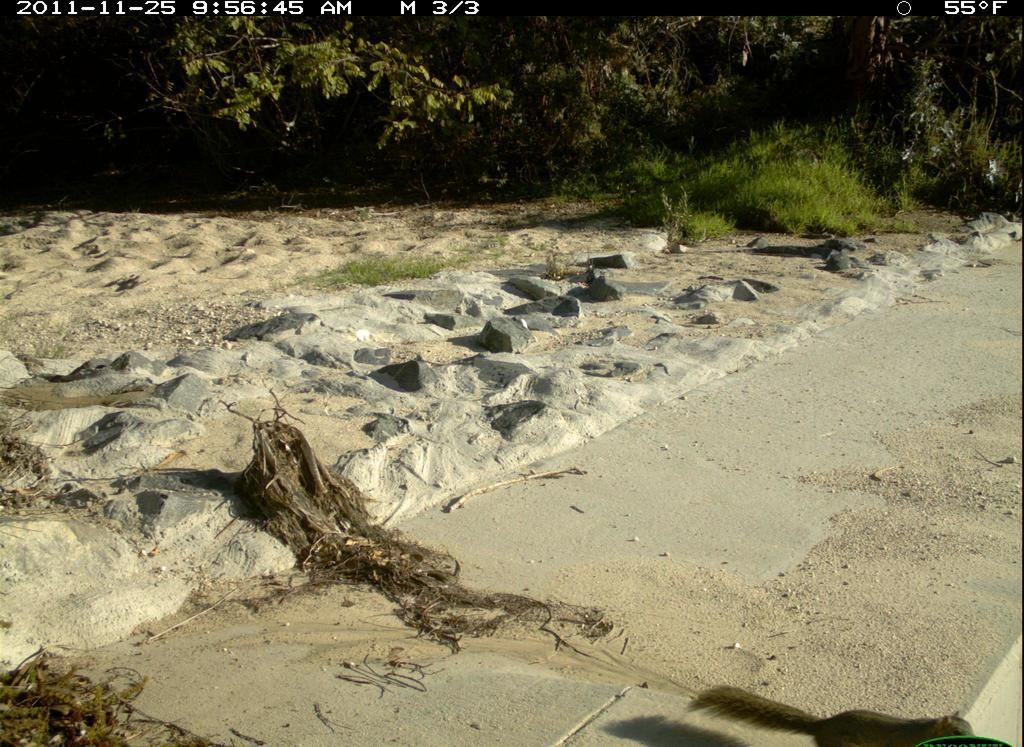squirrel: (669, 671, 984, 747)
